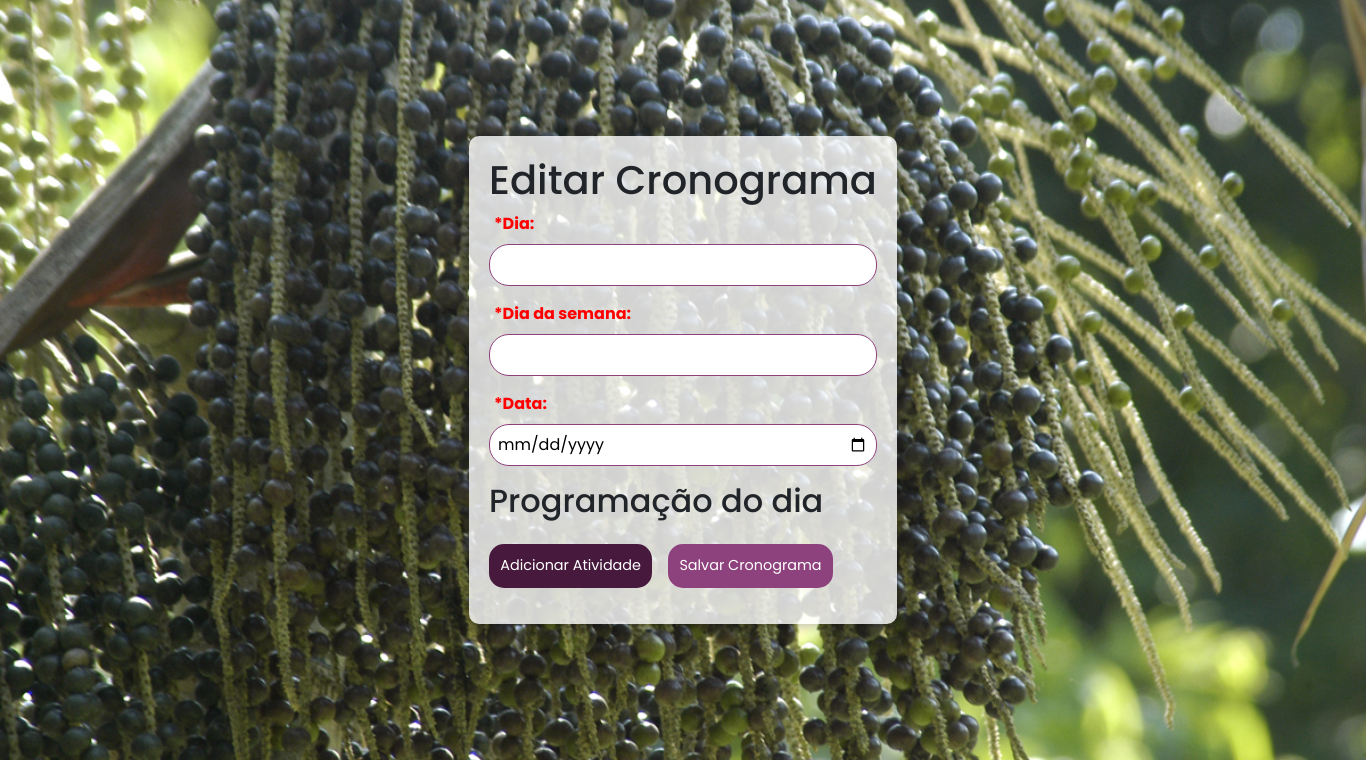
Test: SubmitTimeline Component › deve adicionar uma nova atividade ao clicar em "Adicionar Atividade"
Click the button "Adicionar Atividade".
click(571, 566)  # box [489,544,652,588]
(page scrolled)
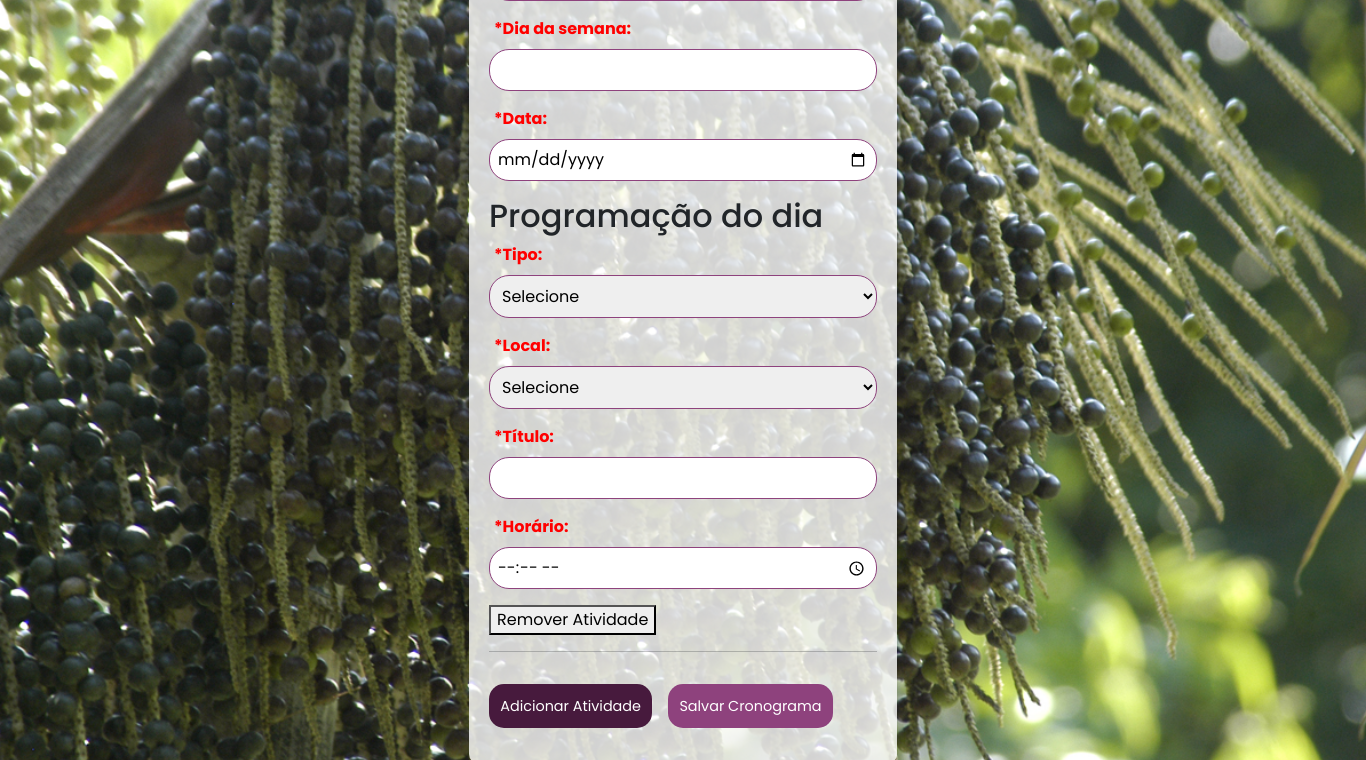
Now the number of dropdowns labelled "Tipo:" is 1, box [489,275,877,318]
Click the button "Adicionar Atividade".
click(571, 706)  # box [489,684,652,728]
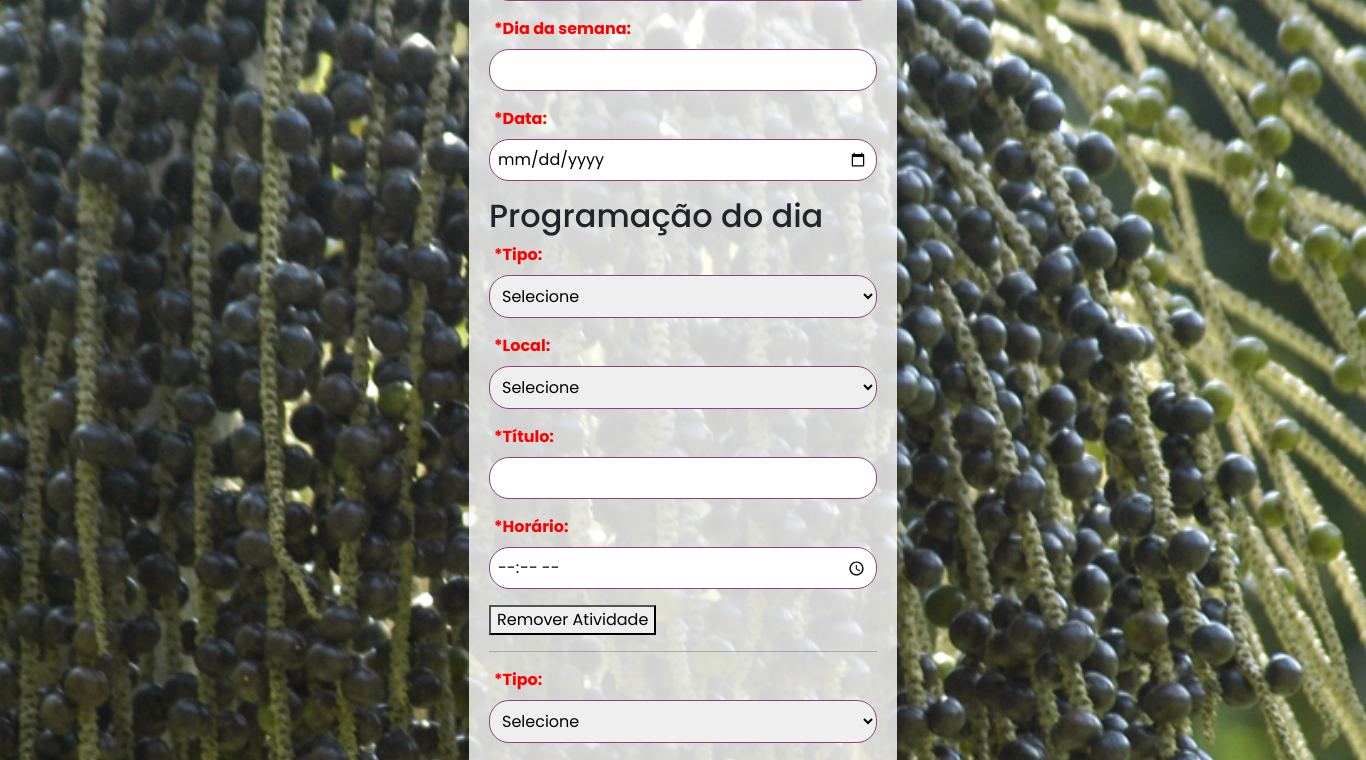
Now the number of dropdowns labelled "Tipo:" is 2, box [489,275,877,318]; [489,700,877,743]
